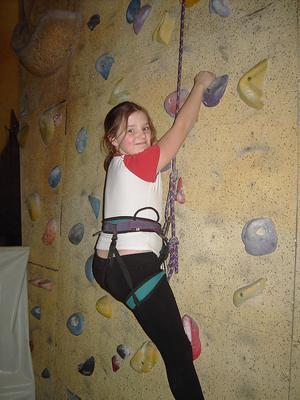person: (91, 70, 215, 400)
